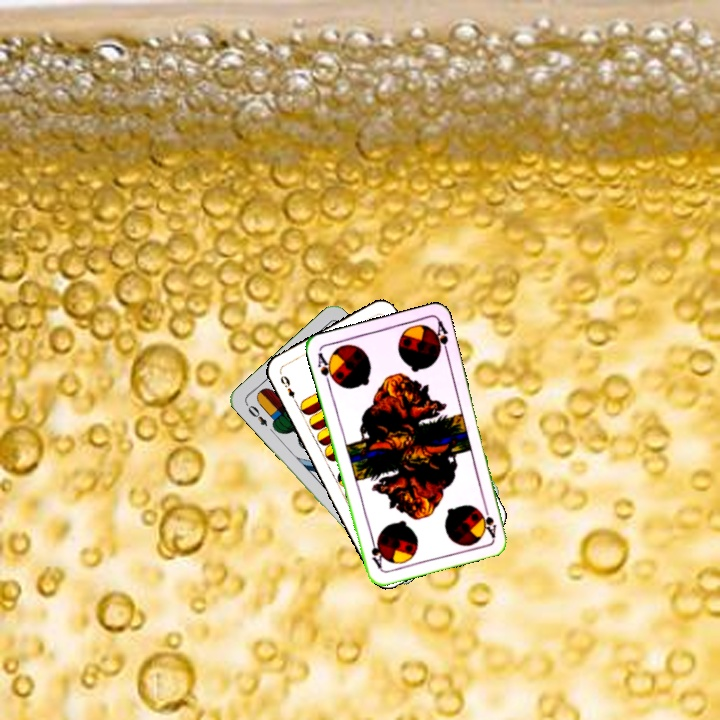E9: (276, 371, 300, 407)
EO: (242, 399, 270, 429)
SA: (313, 349, 338, 389), (477, 500, 499, 540)
